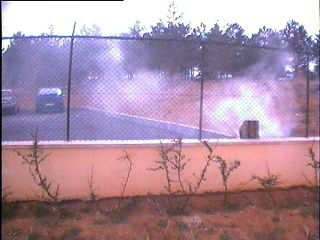smoke: (203, 52, 294, 139)
